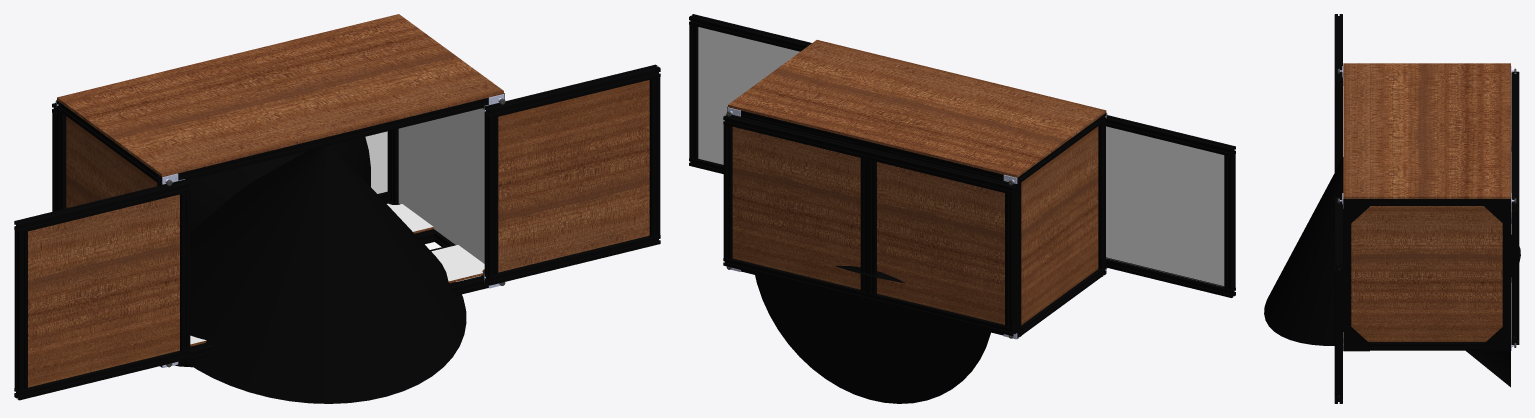
File: enclosure_cones.fbx
The picture shows the model from 3 angles, left to right: view 1: azimuth 30°, elevation 25°; view 2: azimuth 150°, elevation 25°; view 3: azimuth 270°, elevation 25°; orthographic projection. The views are drawn at different scales.
Parts seen in each view (by area): view 1: color-2.2, polished mahogany 2d-4, polished mahogany 2d-3.3, polished mahogany 2d-3.4, color-5, satin finish aluminum-2.4, satin finish aluminum-2.3, satin finish aluminum, polished mahogany 2d-2.2, color-2, color-3, color-6 (+1 smaller); view 2: polished mahogany 2d-4, color-2, polished mahogany 2d-3, polished mahogany 2d-3.2, color-6.3, polished mahogany 2d-2.2, color-6.4, satin finish aluminum-2.2, satin finish aluminum, satin finish aluminum-2, satin finish aluminum-2.3, satin finish aluminum-2.4; view 3: polished mahogany 2d-4, polished mahogany 2d-2, color-2.2, satin finish aluminum, satin finish aluminum-2, satin finish aluminum-2.4, satin finish aluminum-2.3, color-2, satin finish aluminum-2.2, satin finish aluminum-3, satin finish aluminum-3.4, satin finish aluminum-3.2 (+1 smaller).
Part boxes in pixels (x1,y1,x2,y2): color-2.2: [186, 145, 466, 403]; polished mahogany 2d-4: [57, 14, 503, 177]; polished mahogany 2d-3.3: [28, 194, 179, 387]; polished mahogany 2d-3.4: [498, 80, 649, 272]; color-5: [398, 108, 484, 263]; satin finish aluminum-2.4: [484, 64, 660, 285]; satin finish aluminum-2.3: [14, 179, 190, 400]; satin finish aluminum: [57, 97, 488, 367]; polished mahogany 2d-2.2: [66, 116, 157, 208]; color-2: [174, 137, 370, 367]; color-3: [190, 203, 484, 344]; color-6: [365, 131, 387, 193]; polished mahogany 2d-4: [728, 40, 1106, 177]; color-2: [754, 142, 991, 403]; polished mahogany 2d-3: [732, 127, 860, 289]; polished mahogany 2d-3.2: [877, 162, 1004, 324]; color-6.3: [1106, 126, 1224, 286]; polished mahogany 2d-2.2: [1021, 126, 1098, 324]; color-6.4: [698, 27, 799, 164]; satin finish aluminum-2.2: [867, 149, 1016, 335]; satin finish aluminum: [732, 110, 1106, 338]; satin finish aluminum-2: [723, 114, 871, 300]; satin finish aluminum-2.3: [1106, 115, 1235, 297]; satin finish aluminum-2.4: [689, 14, 811, 173]; polished mahogany 2d-4: [1343, 63, 1510, 198]; polished mahogany 2d-2: [1351, 206, 1502, 341]; color-2.2: [1264, 157, 1520, 345]; satin finish aluminum: [1343, 199, 1510, 350]; satin finish aluminum-2: [1511, 138, 1519, 344]; satin finish aluminum-2.4: [1334, 197, 1342, 403]; satin finish aluminum-2.3: [1334, 14, 1342, 172]; color-2: [1466, 350, 1510, 387]; satin finish aluminum-2.2: [1511, 71, 1519, 140]; satin finish aluminum-3: [1343, 326, 1369, 351]; satin finish aluminum-3.4: [1484, 326, 1510, 351]; satin finish aluminum-3.2: [1343, 199, 1369, 223].
Bounding box in the file's own units: 289 × 132 × 126.
Materials: 9 (3 with a texture image).
